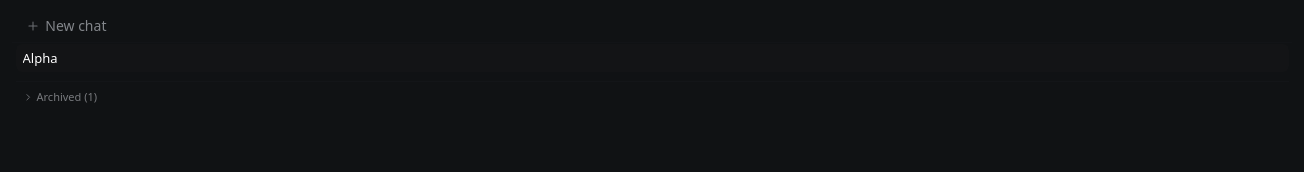
DockChatStrip › reveals archived chats when the section is expanded
The image size is (1304, 172).
Click the button "Archived (1)" at (62, 96), box [16, 89, 1288, 109]
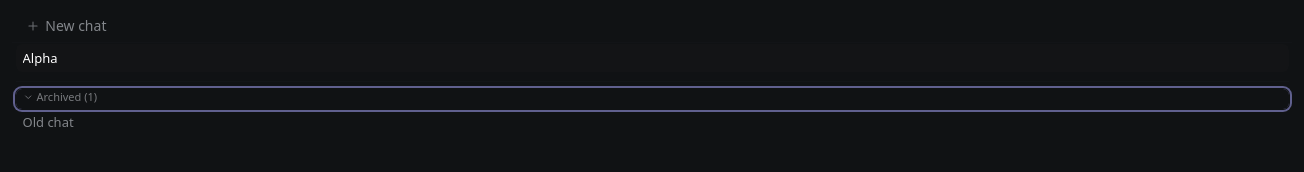
Expected: the tab "Old chat" is shown, [22, 114, 1282, 131]
